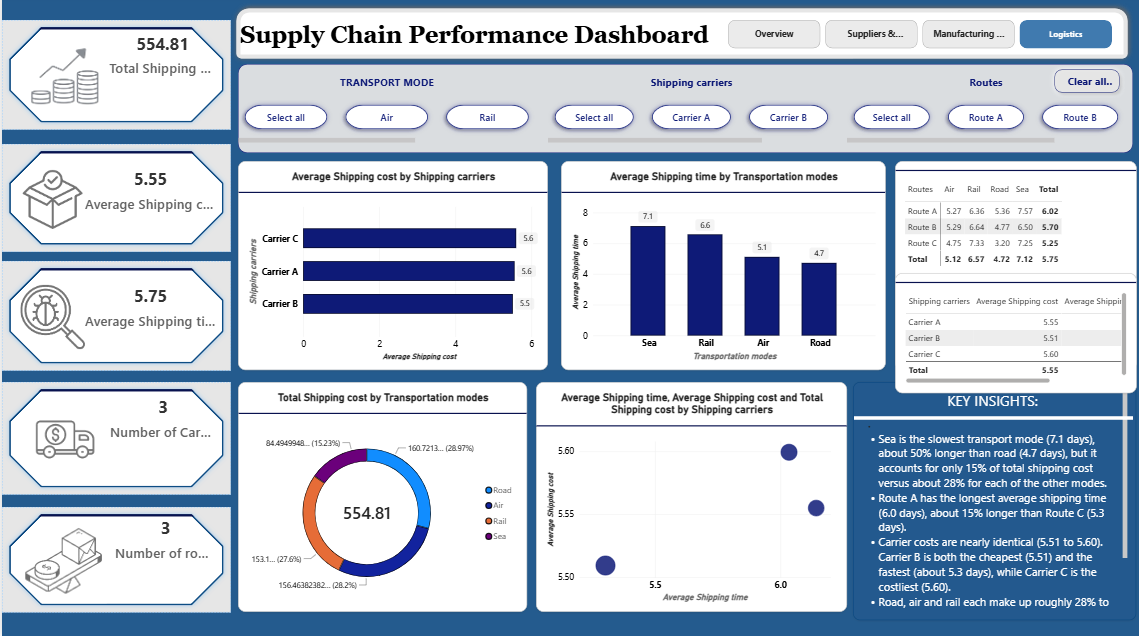

Layout of this report page (visuals, bound fields, positions):
{"tool":"powerbi","page":{"name":"Logistics","canvas":[1920,1080],"ordinal":3},"visuals":[{"type":"cardVisual","fields":{"Data":["Supply Chain.Total Shipping cost"]},"box":[0,40.5,386.4,185.6],"z":0},{"type":"cardVisual","fields":{"Data":["Supply Chain.Average Shipping cost"]},"box":[0,249.8,386.4,182.2],"z":1000},{"type":"cardVisual","fields":{"Data":["Supply Chain.Number of Carriers"]},"box":[0,651.4,386.4,190.7],"z":2000},{"type":"cardVisual","fields":{"Data":["Supply Chain.Number of routes"]},"box":[0,862.3,386.4,178.9],"z":3000},{"type":"cardVisual","fields":{"Data":["Supply Chain.Average Shipping time"]},"box":[0,447.2,386.4,185.6],"z":4000},{"type":"advancedSlicerVisual","fields":{"Values":["Supply Chain.Supplier name"]},"box":[1243.7,21.9,194.1,82.7],"z":5000},{"type":"shape","box":[386.4,11.8,1522.1,102.9],"z":6000},{"type":"pageNavigator","box":[1225.1,40.5,651.4,48.9],"z":7000},{"type":"shape","box":[398.2,114.8,1510.3,150.2],"z":8000},{"type":"advancedSlicerVisual","title":"TRANSPORT MODE","fields":{"Values":["Supply Chain.Transportation modes"]},"box":[398.2,133.3,502.9,116.4],"z":9000},{"type":"advancedSlicerVisual","fields":{"Values":["Supply Chain.Shipping carriers"]},"box":[921.4,133.3,484.3,116.4],"z":10000},{"type":"advancedSlicerVisual","fields":{"Values":["Supply Chain.Routes"]},"box":[1425.9,133.3,469.1,116.4],"z":11000},{"type":"actionButton","box":[1766.8,114.8,128.2,57.4],"z":12000},{"type":"textbox","box":[1436.7,651.7,478.3,401.7],"z":13000},{"type":"shape","box":[1437.8,561.9,470.8,300.4],"z":14000},{"type":"clusteredBarChart","fields":{"Category":["Supply Chain.Shipping carriers"],"Y":["Supply Chain.Average Shipping cost"]},"box":[398.3,278.3,523.3,353.3],"z":19001},{"type":"clusteredColumnChart","fields":{"Category":["Supply Chain.Transportation modes"],"Y":["Supply Chain.Average Shipping time"]},"box":[943.3,278.3,548.3,353.3],"z":19002},{"type":"scatterChart","fields":{"Category":["Supply Chain.Shipping carriers"],"Size":["Supply Chain.Total Shipping cost"],"X":["Supply Chain.Average Shipping time"],"Y":["Supply Chain.Average Shipping cost"]},"box":[901.7,651.7,525,388.3],"z":19003},{"type":"donutChart","fields":{"Category":["Supply Chain.Transportation modes"],"Y":["Supply Chain.Total Shipping cost"]},"box":[398.3,651.7,488.3,388.3],"z":19004},{"type":"pivotTable","fields":{"Columns":["Supply Chain.Transportation modes"],"Rows":["Supply Chain.Routes"],"Values":["Supply Chain.Average Shipping time"]},"box":[1506.7,278.3,408.3,353.3],"z":19005},{"type":"tableEx","fields":{"Values":["Supply Chain.Shipping carriers","Supply Chain.Average Shipping cost","Supply Chain.Average Shipping time","Supply Chain.Total Shipping cost"]},"box":[1506.7,466.7,408.3,203.3],"z":19006}]}

Visuals, with their boxes in screenshot pixels (x1, y1, x2, y2), scaled from the page's 1920x1080 canvas onto the 1139x636 screenshot:
cardVisual - Supply Chain.Total Shipping cost: <bbox>0, 24, 229, 133</bbox>
cardVisual - Supply Chain.Average Shipping cost: <bbox>0, 147, 229, 254</bbox>
cardVisual - Supply Chain.Number of Carriers: <bbox>0, 384, 229, 496</bbox>
cardVisual - Supply Chain.Number of routes: <bbox>0, 508, 229, 613</bbox>
cardVisual - Supply Chain.Average Shipping time: <bbox>0, 263, 229, 373</bbox>
advancedSlicerVisual - Supply Chain.Supplier name: <bbox>738, 13, 853, 62</bbox>
shape: <bbox>229, 7, 1132, 68</bbox>
pageNavigator: <bbox>727, 24, 1113, 53</bbox>
shape: <bbox>236, 68, 1132, 156</bbox>
"TRANSPORT MODE" advancedSlicerVisual: <bbox>236, 78, 535, 147</bbox>
advancedSlicerVisual - Supply Chain.Shipping carriers: <bbox>547, 78, 834, 147</bbox>
advancedSlicerVisual - Supply Chain.Routes: <bbox>846, 78, 1124, 147</bbox>
actionButton: <bbox>1048, 68, 1124, 101</bbox>
textbox: <bbox>852, 384, 1136, 620</bbox>
shape: <bbox>853, 331, 1132, 508</bbox>
clusteredBarChart - Supply Chain.Shipping carriers x Supply Chain.Average Shipping cost: <bbox>236, 164, 547, 372</bbox>
clusteredColumnChart - Supply Chain.Transportation modes x Supply Chain.Average Shipping time: <bbox>560, 164, 885, 372</bbox>
scatterChart - Supply Chain.Shipping carriers x Supply Chain.Total Shipping cost: <bbox>535, 384, 846, 612</bbox>
donutChart - Supply Chain.Transportation modes x Supply Chain.Total Shipping cost: <bbox>236, 384, 526, 612</bbox>
pivotTable - Supply Chain.Transportation modes x Supply Chain.Routes: <bbox>894, 164, 1136, 372</bbox>
tableEx - Supply Chain.Shipping carriers x Supply Chain.Average Shipping cost: <bbox>894, 275, 1136, 395</bbox>
